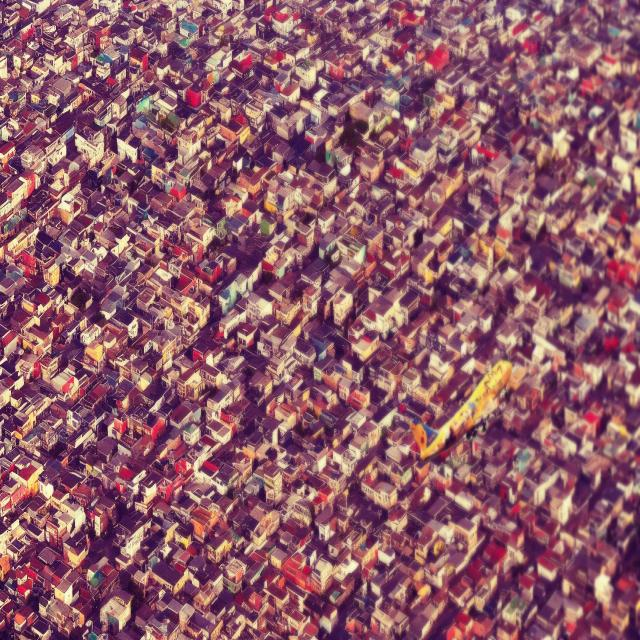airplane: (409, 358, 512, 461)
